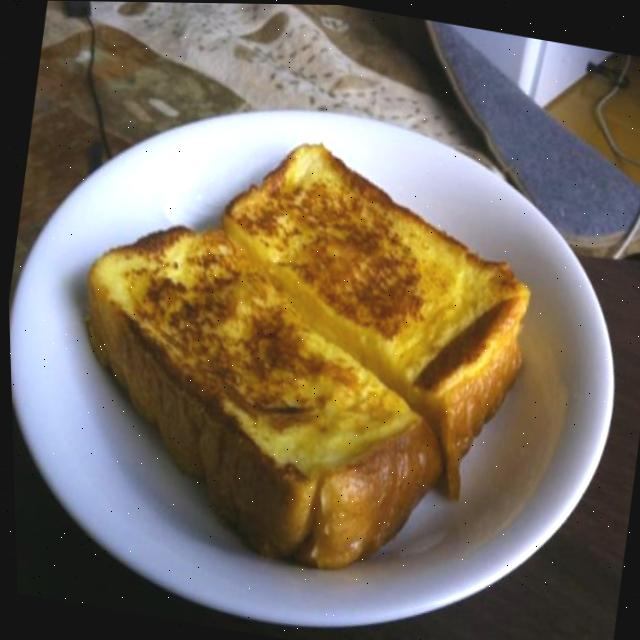面包点心: (1, 42, 640, 640)
